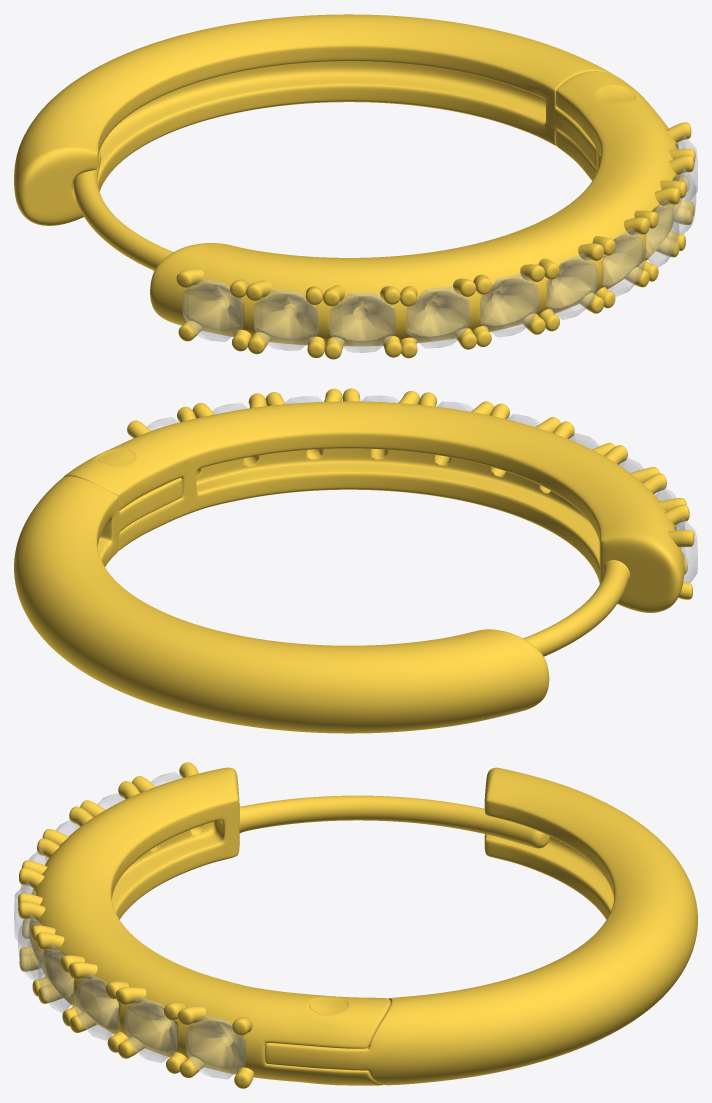
The model's file is 15mm_hoop.glb.
3 views of the same model, one above another, from view 1: azimuth 30°, elevation 25°; view 2: azimuth 150°, elevation 25°; view 3: azimuth 270°, elevation 25° (orthographic).
Parts seen in each view (by area): view 1: 15MM_HOOP_CRYSTAL; view 2: 15MM_HOOP_CRYSTAL; view 3: 15MM_HOOP_CRYSTAL.
Boxes of the visible parts, x1,y1,x2,y2 form: 15MM_HOOP_CRYSTAL: (14, 14, 697, 359); 15MM_HOOP_CRYSTAL: (14, 388, 697, 733); 15MM_HOOP_CRYSTAL: (14, 762, 697, 1088).
Bounding box in the file's own units: 1.43 × 0.1889 × 1.53.
